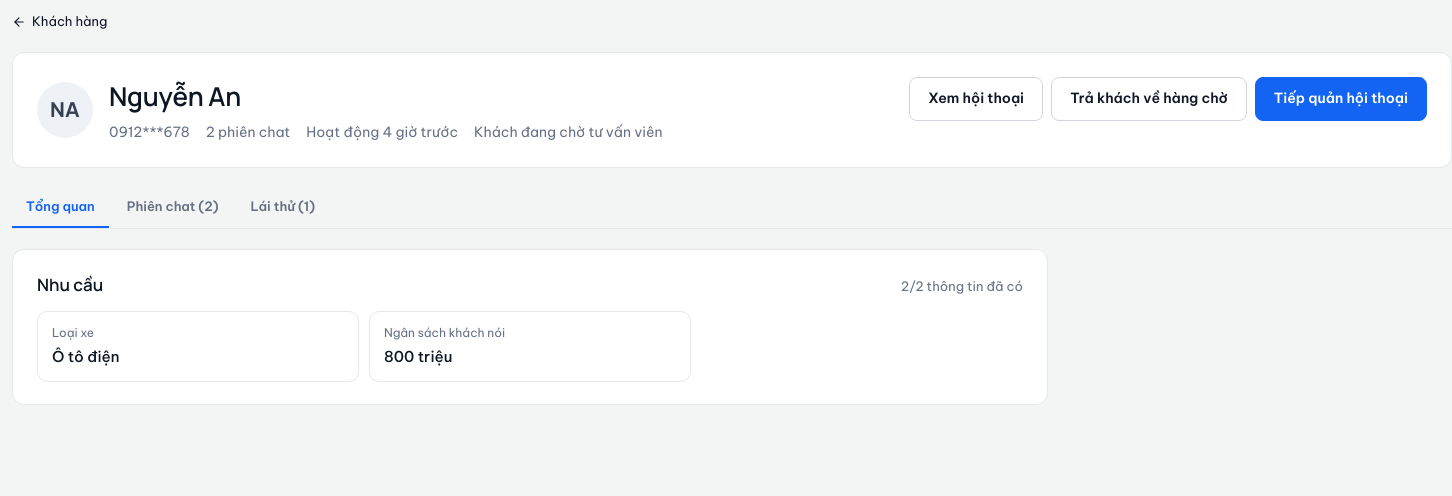
Test: CustomerProfilePage › TVV: đầu hồ sơ, Xem hội thoại/Tiếp quản vào phiên đang chờ, tab Phiên chat và Lái thử lọc đúng khách
The image size is (1452, 496).
Expected: the heading "Nguyễn An" is shown, [109,76,241,116]
Expected: the text "0912***678" is shown, [109,122,190,142]
Click the button "Tiếp quản hội thoại" at (1341, 98), box [1255,76,1427,120]
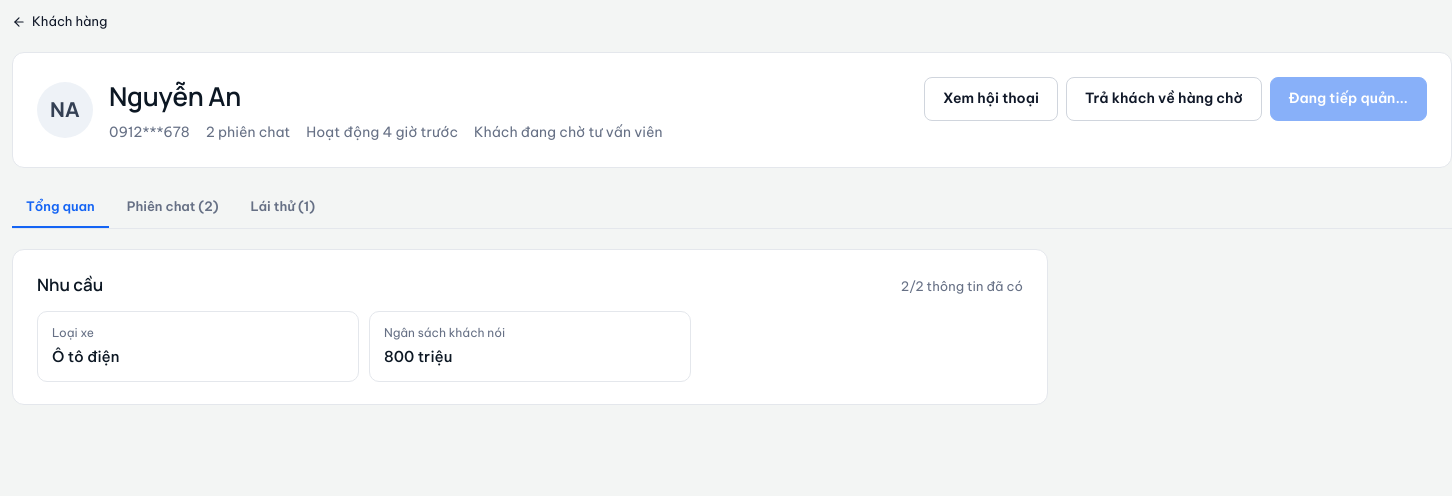
Click the tab "Phiên chat (2)" at (173, 208), box [113,188,233,228]
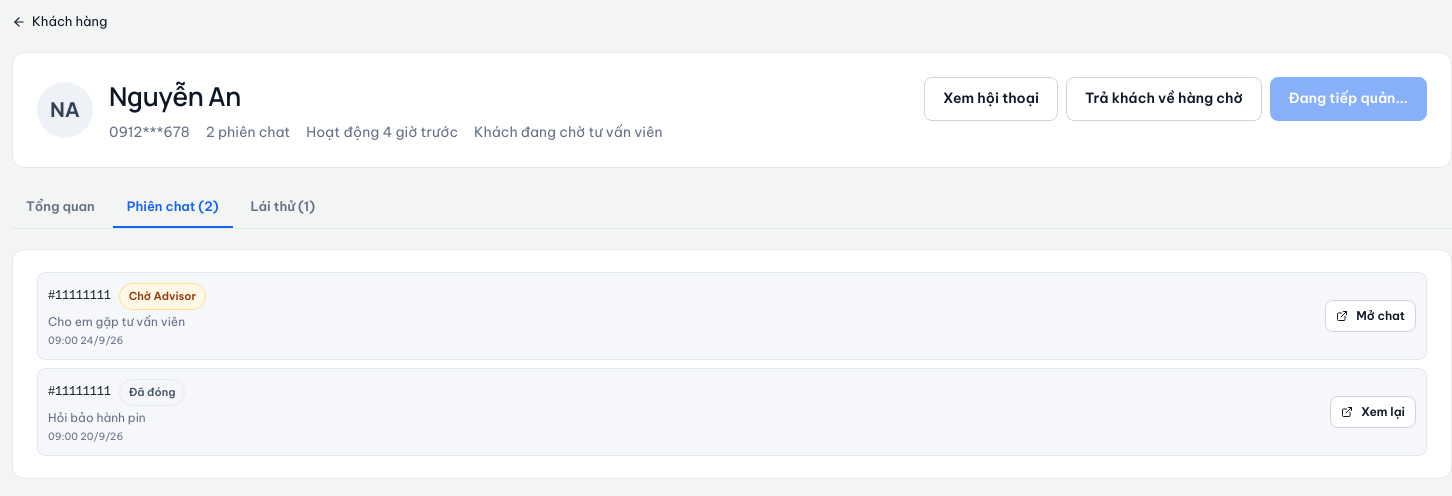
Expected: the number of list items is 2, [37,272,1427,360]; [37,368,1427,456]
Click the tab "Lái thử (1)" at (283, 208), box [237,188,329,228]
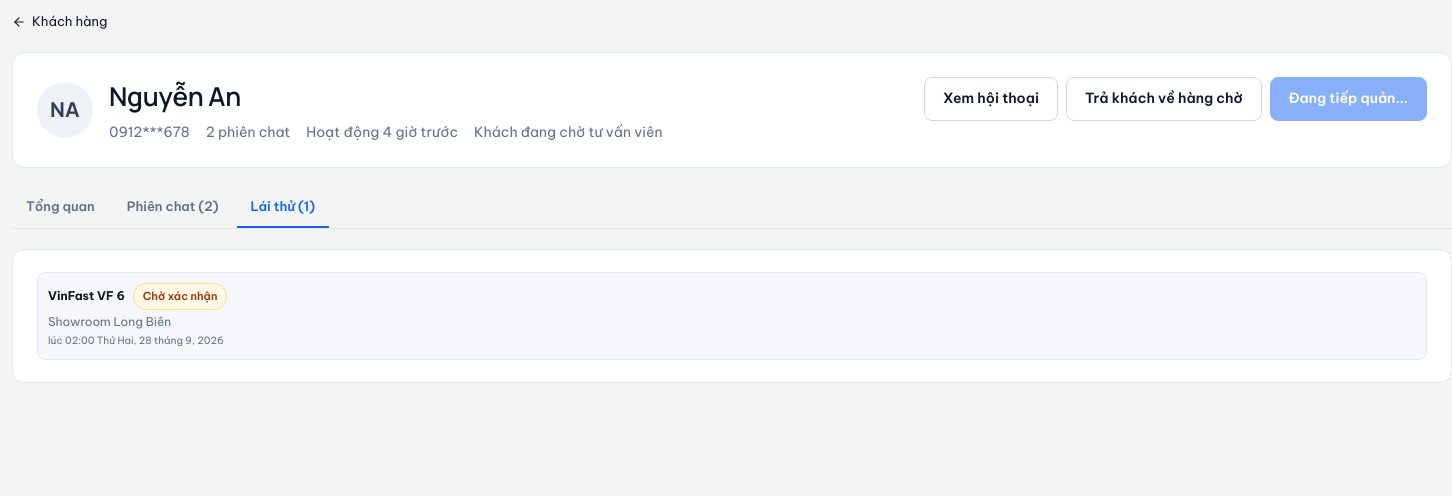
Now the text "VinFast VF 6" is shown, box [48,287,125,305]
Now the number of list items is 1, box [37,272,1427,360]
